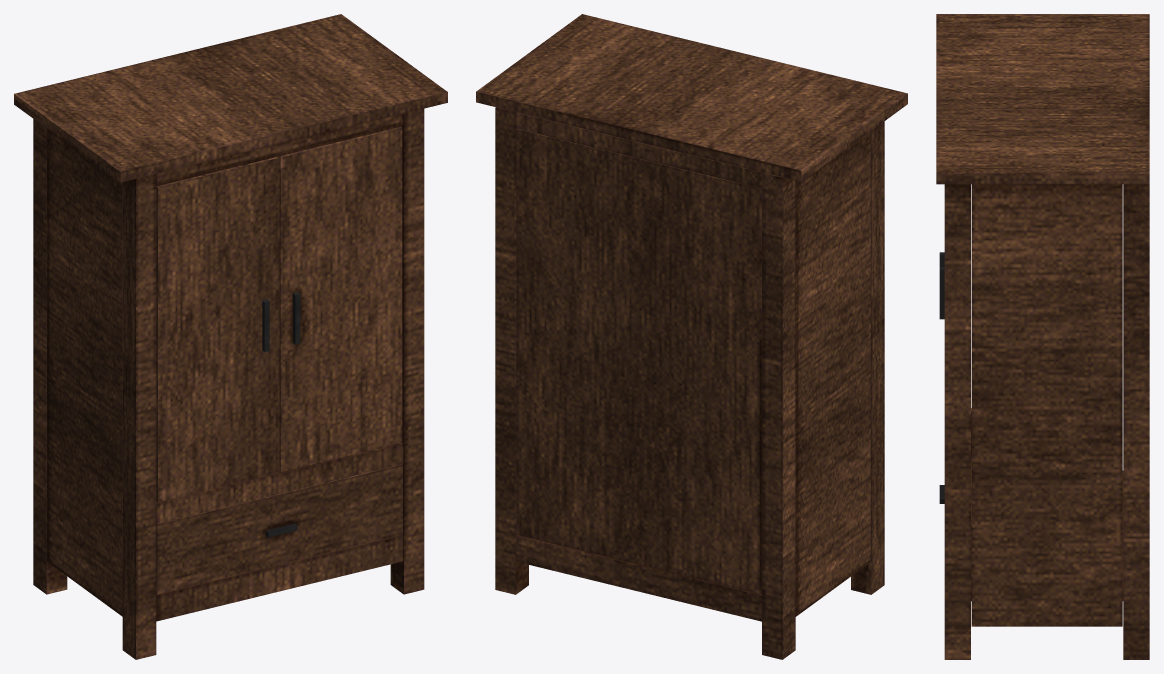
File: Max_model_Armoire.fbx
3 views of the same model, side by side, from view 1: azimuth 30°, elevation 25°; view 2: azimuth 150°, elevation 25°; view 3: azimuth 270°, elevation 25° (orthographic).
Parts seen in each view (by area): view 1: Armoire Main, DrawerLeft, DrawerRight, Drawer; view 2: Armoire Main; view 3: Armoire Main.
Part boxes in pixels (x1,y1,x2,y2): Armoire Main: (14, 14, 447, 659); DrawerLeft: (156, 156, 279, 502); DrawerRight: (278, 126, 402, 472); Drawer: (156, 464, 402, 594); Armoire Main: (476, 14, 907, 659); Armoire Main: (936, 14, 1149, 659).
Size of the model in its own units: 152 by 85.87 by 220.
